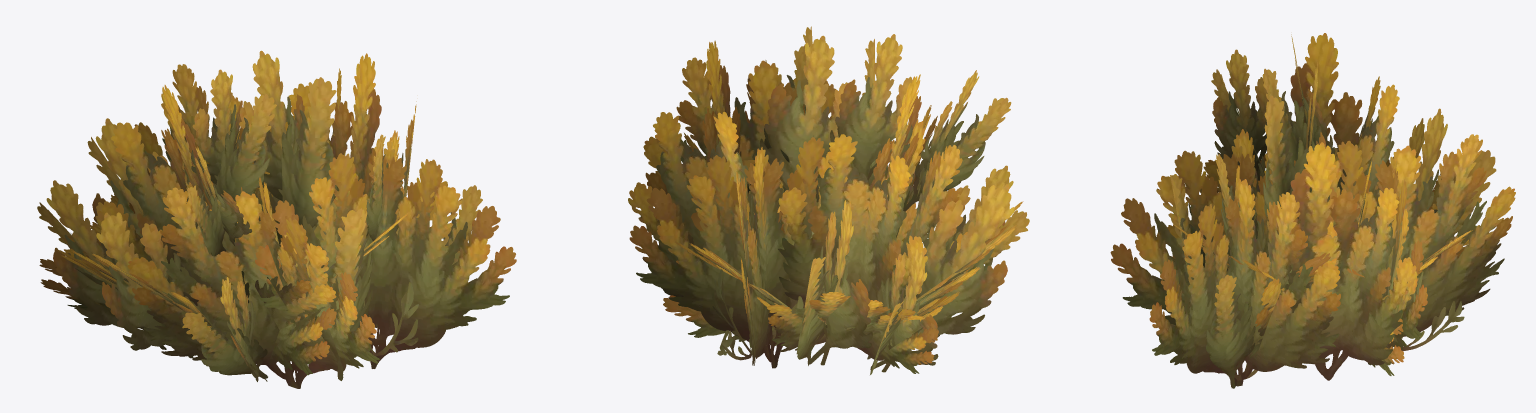
The picture shows the model from 3 angles, left to right: view 1: azimuth 30°, elevation 25°; view 2: azimuth 150°, elevation 25°; view 3: azimuth 270°, elevation 25°; orthographic projection. The views are drawn at different scales.
Size of the model in its own units: 5.12 by 4.07 by 5.12.
Materials: 1 (1 with a texture image).
